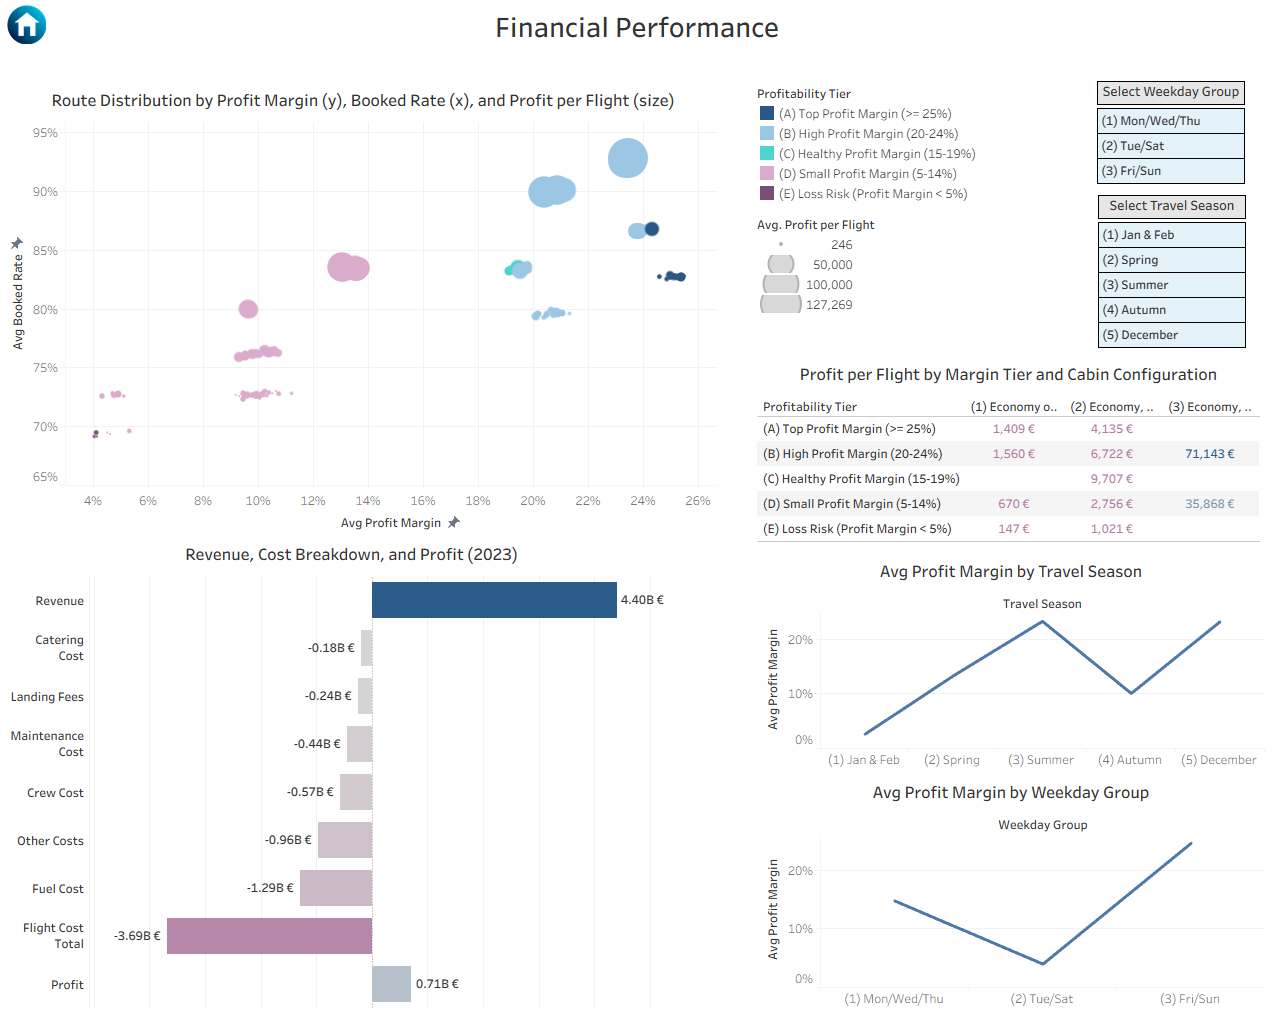

The page's visual inventory and layout, read from the dashboard file:
{"tool":"tableau","page":{"name":"(2) Financial Performance","canvas":[650,860],"ordinal":1},"visuals":[{"type":"worksheet","title":"2.2 Financial Breakdown","mark":"Bar","box":[8,8,237,422]},{"type":"worksheet","title":"2.5 Weekday Profits Line","mark":"Line","rows":["Calculation_1457693312303106"],"cols":["weekday_group"],"box":[245,8,237,422]},{"type":"legend","title":"2.1 Route Profit Distribution","param":"[federated.192agi6082b27y1g0wheh0zylxcd].[none:profitability_tier:nk]","box":[482,8,160,124.3]},{"type":"legend","title":"2.1 Route Profit Distribution","param":"[federated.192agi6082b27y1g0wheh0zylxcd].[avg:Calculation_1457693329010697:qk]","box":[482,132.3,160,106]},{"type":"legend","title":"2.2 Financial Breakdown","param":"[federated.192agi6082b27y1g0wheh0zylxcd].[Multiple Values]","box":[482,238.2,160,65]},{"type":"worksheet","title":"2.3 Profit Tier Heatmap","mark":"Automatic","rows":["profitability_tier"],"cols":["cabin_configuration"],"box":[482,303.2,160,124.3]},{"type":"worksheet","title":"Weekday Group Slicer","mark":"Automatic","rows":["weekday_group"],"box":[482,427.5,160,111]},{"type":"worksheet","title":"2.1 Route Profit Distribution","mark":"Circle","rows":["Calculation_1457693312995331"],"cols":["Calculation_1457693312303106"],"box":[8,430,237,422]},{"type":"worksheet","title":"2.4 Season Profits Line","mark":"Line","rows":["Calculation_1457693312303106"],"cols":["travel_season"],"box":[245,430,237,422]},{"type":"legend","title":"2.3 Profit Tier Heatmap","param":"[federated.192agi6082b27y1g0wheh0zylxcd].[avg:Calculation_1457693329010697:qk]","box":[482,538.5,160,65]},{"type":"worksheet","title":"Booked Tier Slicer","mark":"Automatic","rows":["booked_performance_tier"],"box":[482,603.5,160,124.3]},{"type":"worksheet","title":"Travel Season Slicer","mark":"Automatic","rows":["travel_season"],"box":[482,727.7,160,124.3]}]}

Visuals, with their boxes on the page's 650x860 design canvas (x1, y1, x2, y2). These are canvas units, not pixel positions in the 1272x1016 screenshot, which may show the page scaled, cropped or inside an application window:
"2.2 Financial Breakdown" worksheet (Bar marks): [8, 8, 245, 430]
"2.5 Weekday Profits Line" worksheet (Line marks): [245, 8, 482, 430]
"2.1 Route Profit Distribution" legend: [482, 8, 642, 132]
"2.1 Route Profit Distribution" legend: [482, 132, 642, 238]
"2.2 Financial Breakdown" legend: [482, 238, 642, 303]
"2.3 Profit Tier Heatmap" worksheet: [482, 303, 642, 428]
"Weekday Group Slicer" worksheet: [482, 428, 642, 538]
"2.1 Route Profit Distribution" worksheet (Circle marks): [8, 430, 245, 852]
"2.4 Season Profits Line" worksheet (Line marks): [245, 430, 482, 852]
"2.3 Profit Tier Heatmap" legend: [482, 538, 642, 604]
"Booked Tier Slicer" worksheet: [482, 604, 642, 728]
"Travel Season Slicer" worksheet: [482, 728, 642, 852]
